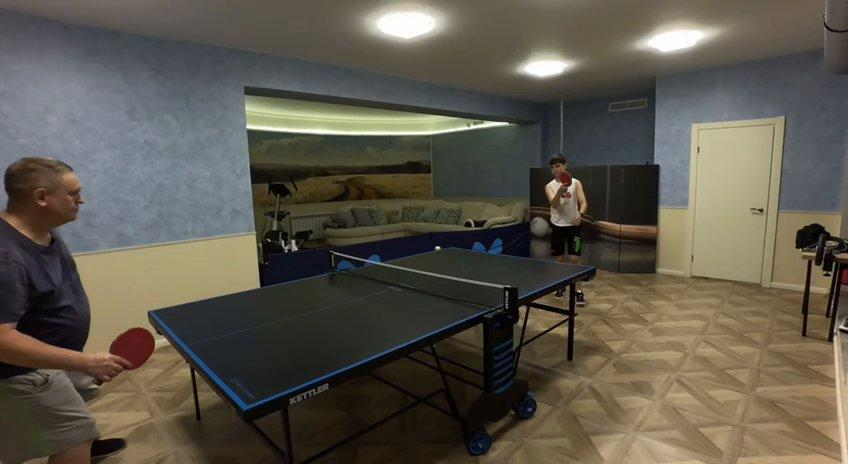Ball: (434, 246, 442, 251)
Net: (327, 251, 515, 308)
Player1: (544, 154, 587, 264)
Player2: (0, 157, 131, 463)
Table: (149, 247, 594, 409)
